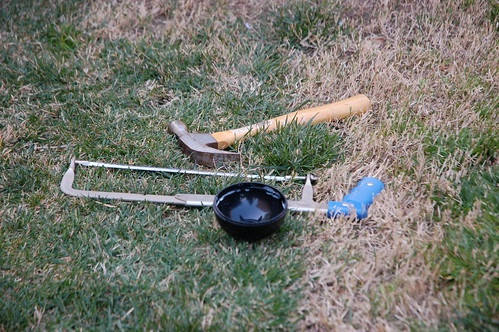hammer: (166, 93, 373, 169)
